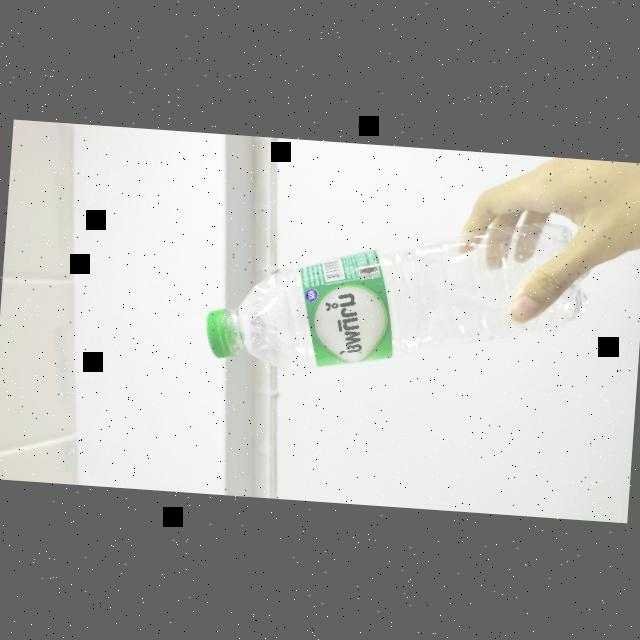plastic_bottle: (197, 180, 585, 402)
plastic_bottle_cap: (198, 303, 250, 364)
